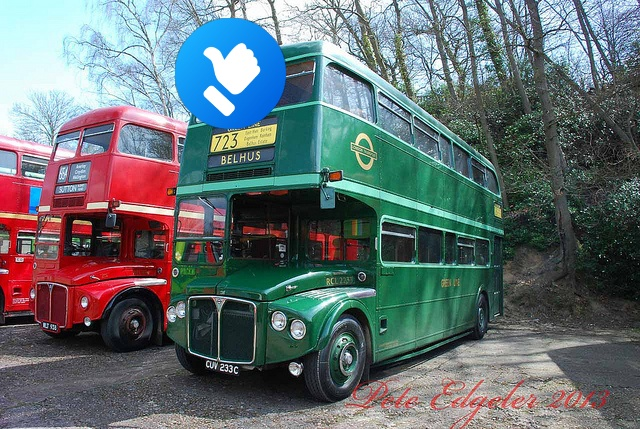like: (175, 18, 286, 129)
